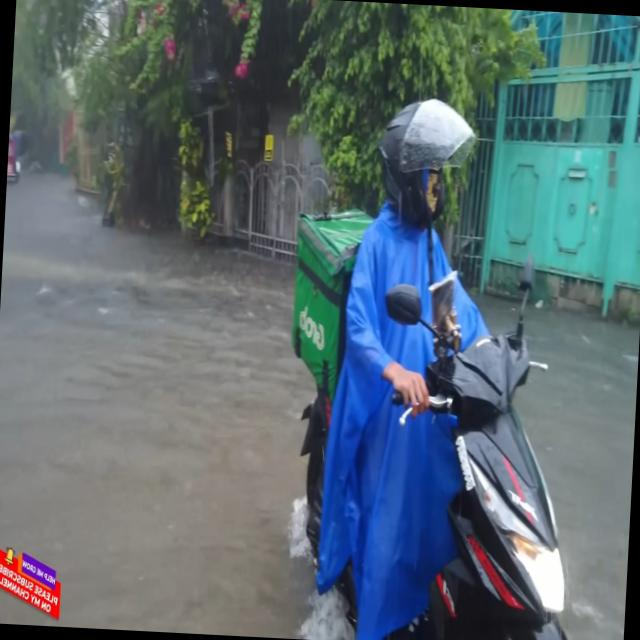half: (366, 90, 481, 244)
